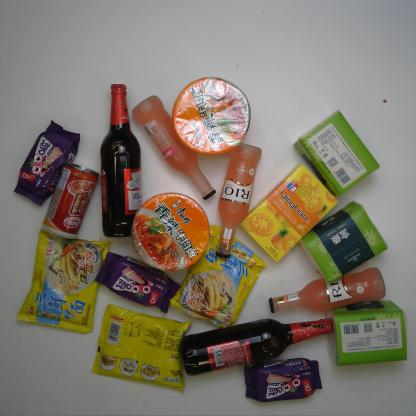Alcohol: (130, 94, 217, 202), (179, 316, 333, 377), (98, 80, 145, 240), (216, 142, 264, 260), (269, 268, 388, 314)
Canned Food: (40, 161, 99, 242)
Dessert: (240, 165, 339, 263), (13, 118, 82, 208), (92, 250, 181, 315), (243, 359, 323, 405)
Instant Noodles: (168, 224, 272, 331), (15, 225, 111, 335), (90, 302, 192, 393), (172, 75, 252, 157), (131, 192, 212, 272)
Tissue: (293, 109, 381, 196), (298, 198, 388, 283), (326, 299, 409, 367)
